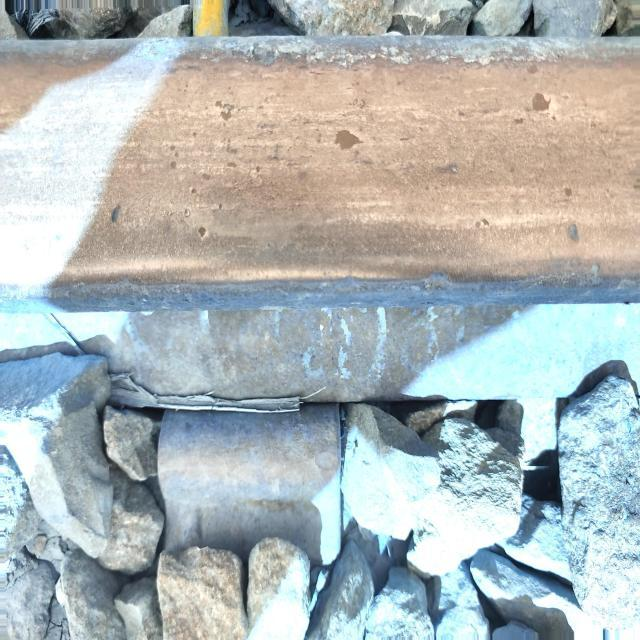squats_high: (335, 124, 363, 152), (529, 89, 552, 117), (166, 142, 180, 175), (216, 96, 234, 121), (567, 216, 579, 242), (109, 204, 121, 222), (195, 223, 208, 239), (563, 184, 575, 196)
